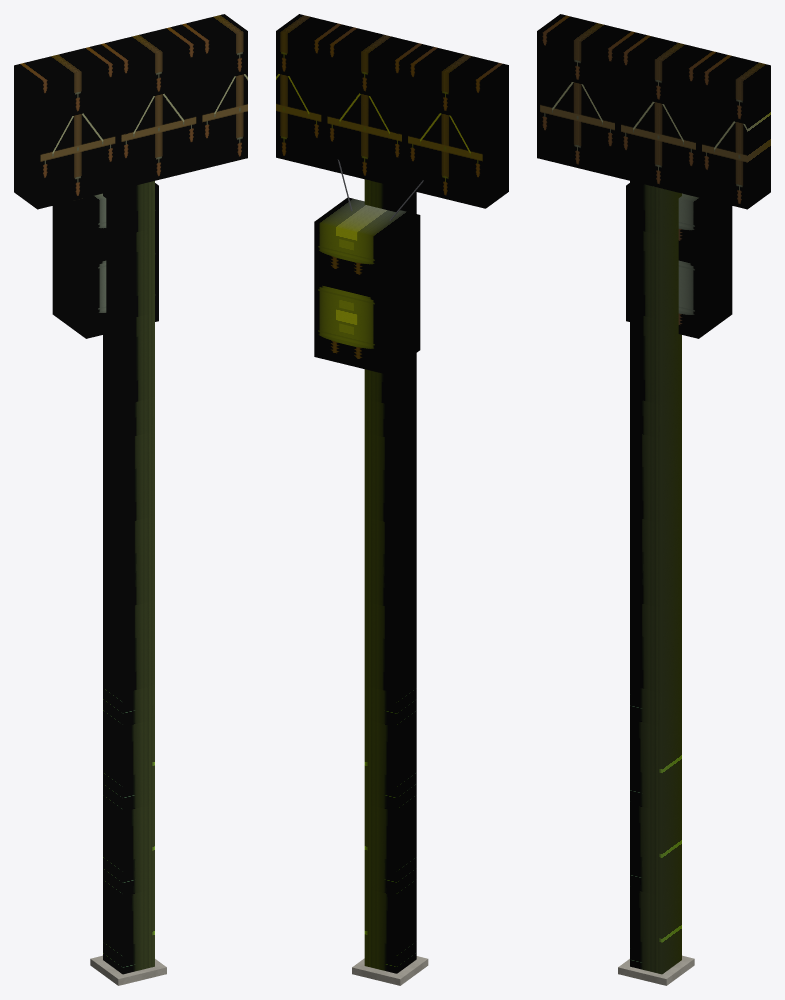
The model's file is pole_transformer.glb.
The picture shows the model from 3 angles, left to right: view 1: azimuth 30°, elevation 25°; view 2: azimuth 150°, elevation 25°; view 3: azimuth 330°, elevation 25°; orthographic projection.
Visible parts, largest first — view 1: pole_transformer; view 2: pole_transformer; view 3: pole_transformer.
Boxes of the visible parts, x1,y1,x2,y2 form: pole_transformer: (14, 14, 247, 985); pole_transformer: (276, 14, 508, 985); pole_transformer: (537, 14, 770, 985).
Bounding box in the file's own units: 2.6 × 10.9 × 1.15.
Materials: 7 (7 with a texture image).
